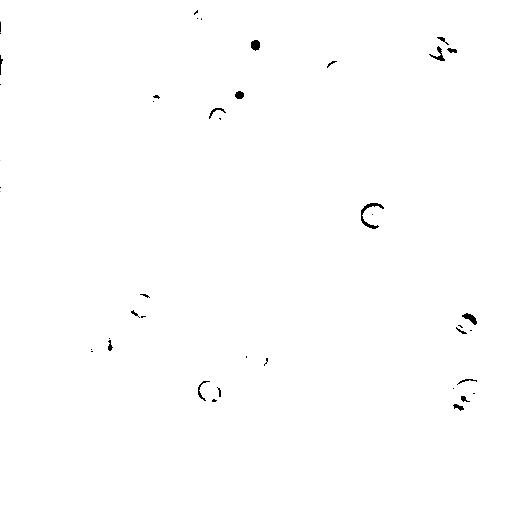micro-algae: (327, 121, 397, 197), (20, 425, 91, 490), (446, 279, 502, 329), (238, 23, 275, 63), (447, 378, 487, 411), (91, 327, 125, 362), (149, 1, 195, 25), (223, 78, 257, 109), (439, 31, 469, 63), (359, 202, 389, 229), (426, 37, 453, 63), (452, 311, 479, 336), (196, 378, 223, 403), (191, 9, 217, 34), (129, 292, 155, 317), (243, 344, 269, 369), (203, 0, 241, 17), (325, 59, 348, 84), (206, 107, 227, 132), (1, 52, 22, 76)
